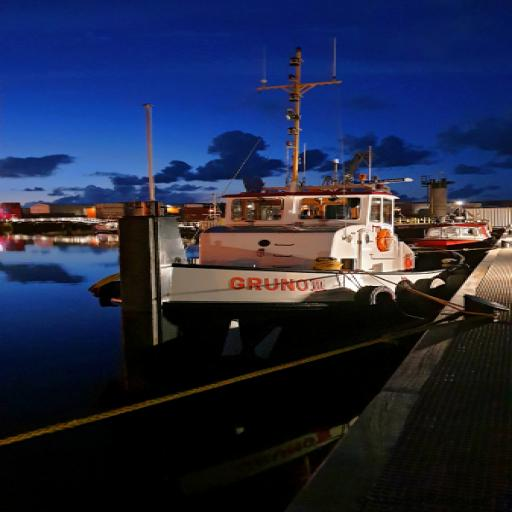tugboat: (86, 36, 472, 368)
